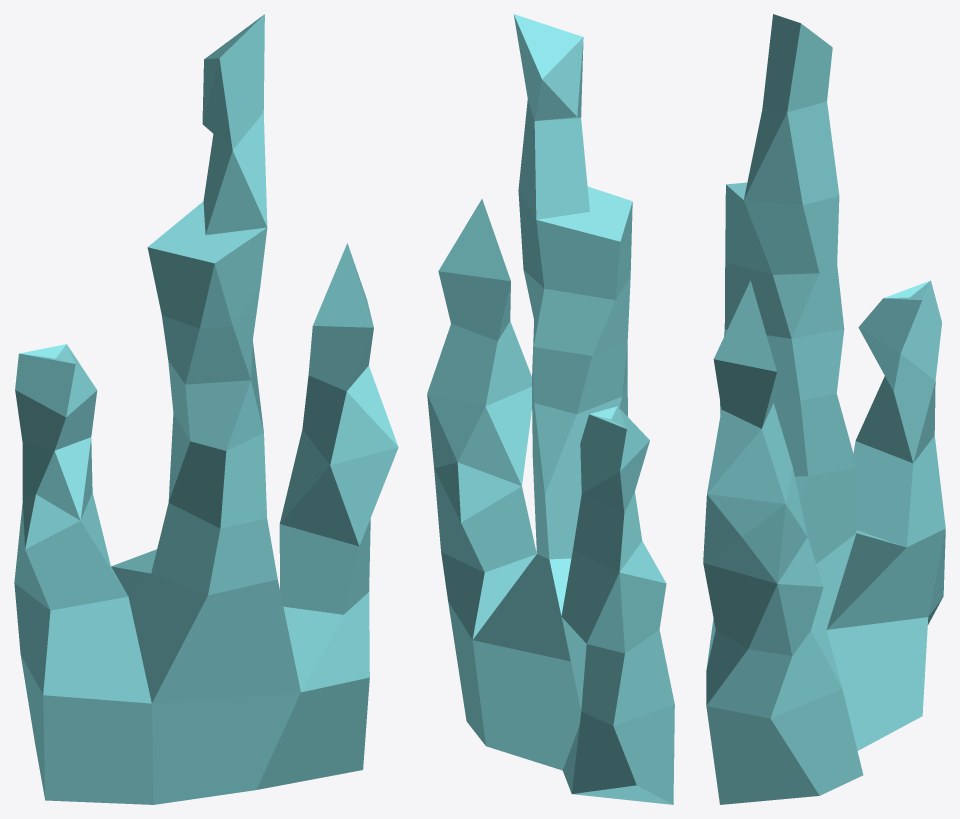
Rendered from nature-icicle.glb.
3 renders of one model, left to right at view 1: azimuth 30°, elevation 25°; view 2: azimuth 150°, elevation 25°; view 3: azimuth 270°, elevation 25°, orthographic. The views are drawn at different scales.
Parts seen in each view (by area): view 1: icicle; view 2: icicle; view 3: icicle.
Boxes of the visible parts, box(x1,y1,x2,y2) form: icicle: box(14, 14, 398, 804); icicle: box(427, 14, 674, 804); icicle: box(703, 14, 945, 804).
Size of the model in its own units: 1.8 by 4.4 by 1.25.
